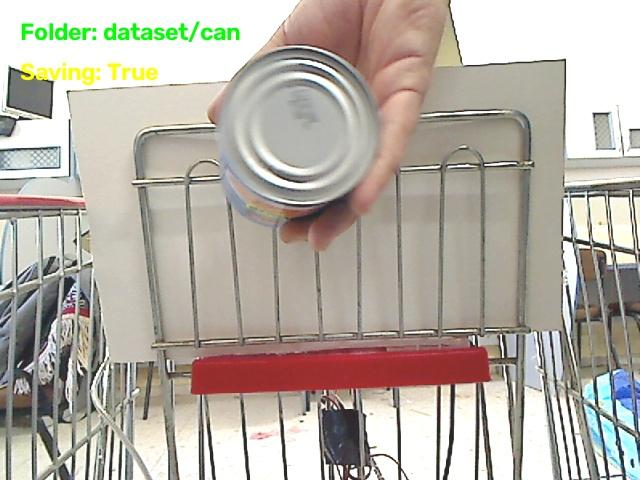can: (219, 46, 379, 226)
